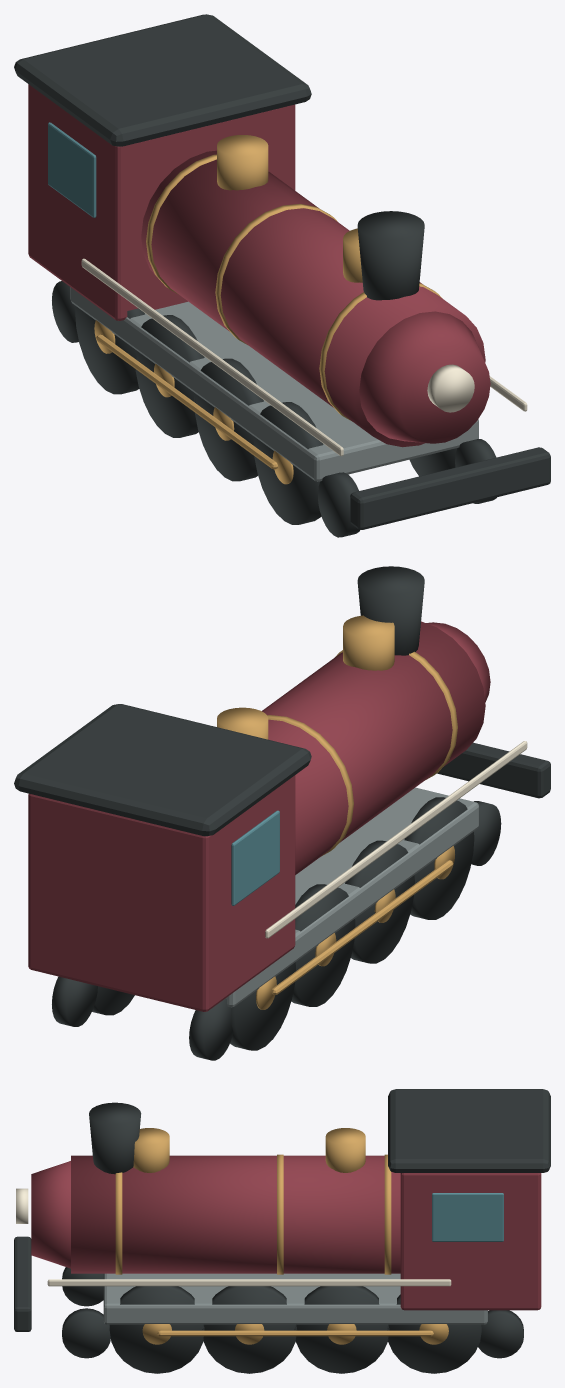
Rendered from locomotive_pacific.glb.
The picture shows the model from 3 angles, top to bottom: view 1: azimuth 30°, elevation 25°; view 2: azimuth 150°, elevation 25°; view 3: azimuth 270°, elevation 25°; orthographic projection. The views are drawn at different scales.
Parts seen in each view (by area): view 1: locomotive_pacific_maroon, locomotive_pacific_black, locomotive_pacific_steel, locomotive_pacific_brass, locomotive_pacific_ivory, locomotive_pacific_glass; view 2: locomotive_pacific_maroon, locomotive_pacific_black, locomotive_pacific_steel, locomotive_pacific_brass, locomotive_pacific_glass, locomotive_pacific_ivory; view 3: locomotive_pacific_maroon, locomotive_pacific_black, locomotive_pacific_steel, locomotive_pacific_brass, locomotive_pacific_ivory, locomotive_pacific_glass.
Part boxes in pixels (x1=…): locomotive_pacific_maroon: x1=28, y1=84, x2=490, y2=447; locomotive_pacific_black: x1=14, y1=14, x2=550, y2=537; locomotive_pacific_steel: x1=70, y1=287, x2=478, y2=481; locomotive_pacific_brass: x1=94, y1=135, x2=442, y2=484; locomotive_pacific_ivory: x1=81, y1=258, x2=527, y2=456; locomotive_pacific_glass: x1=48, y1=122, x2=96, y2=217; locomotive_pacific_maroon: x1=28, y1=621, x2=490, y2=1011; locomotive_pacific_black: x1=14, y1=566, x2=550, y2=1060; locomotive_pacific_steel: x1=225, y1=787, x2=478, y2=1007; locomotive_pacific_brass: x1=217, y1=615, x2=457, y2=1009; locomotive_pacific_glass: x1=231, y1=810, x2=279, y2=905; locomotive_pacific_ivory: x1=265, y1=741, x2=527, y2=938; locomotive_pacific_maroon: x1=31, y1=1155, x2=541, y2=1310; locomotive_pacific_black: x1=14, y1=1089, x2=550, y2=1373; locomotive_pacific_steel: x1=103, y1=1273, x2=487, y2=1324; locomotive_pacific_brass: x1=115, y1=1128, x2=448, y2=1344; locomotive_pacific_ivory: x1=16, y1=1188, x2=451, y2=1286; locomotive_pacific_glass: x1=432, y1=1193, x2=503, y2=1241.
Size of the model in its own units: 2.34 by 3.3 by 6.98.
